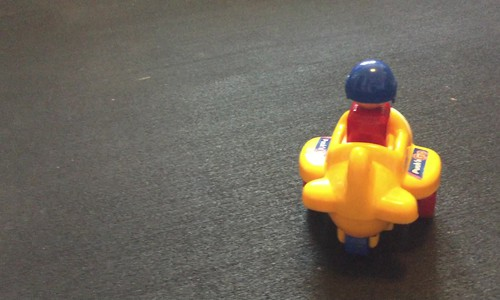toy: (296, 58, 453, 258)
